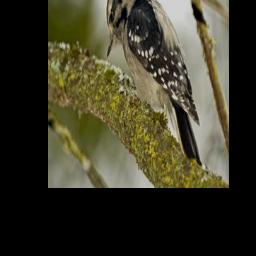Woodpecker: (106, 0, 211, 173)
